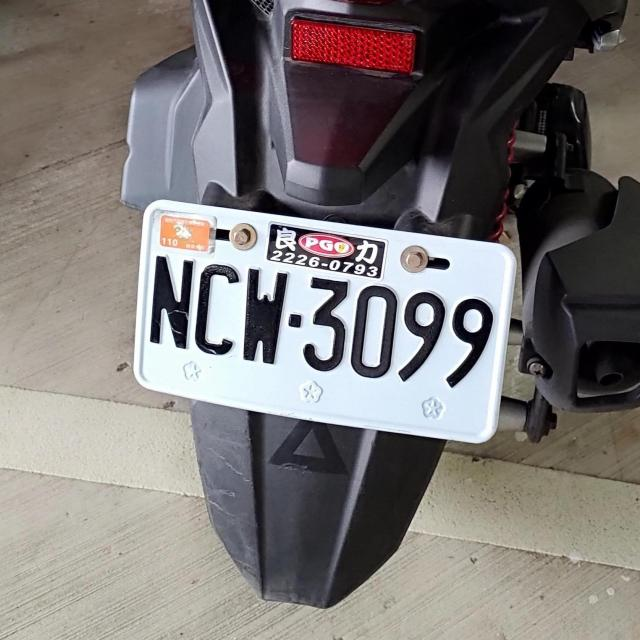W: (124, 202, 523, 444)
